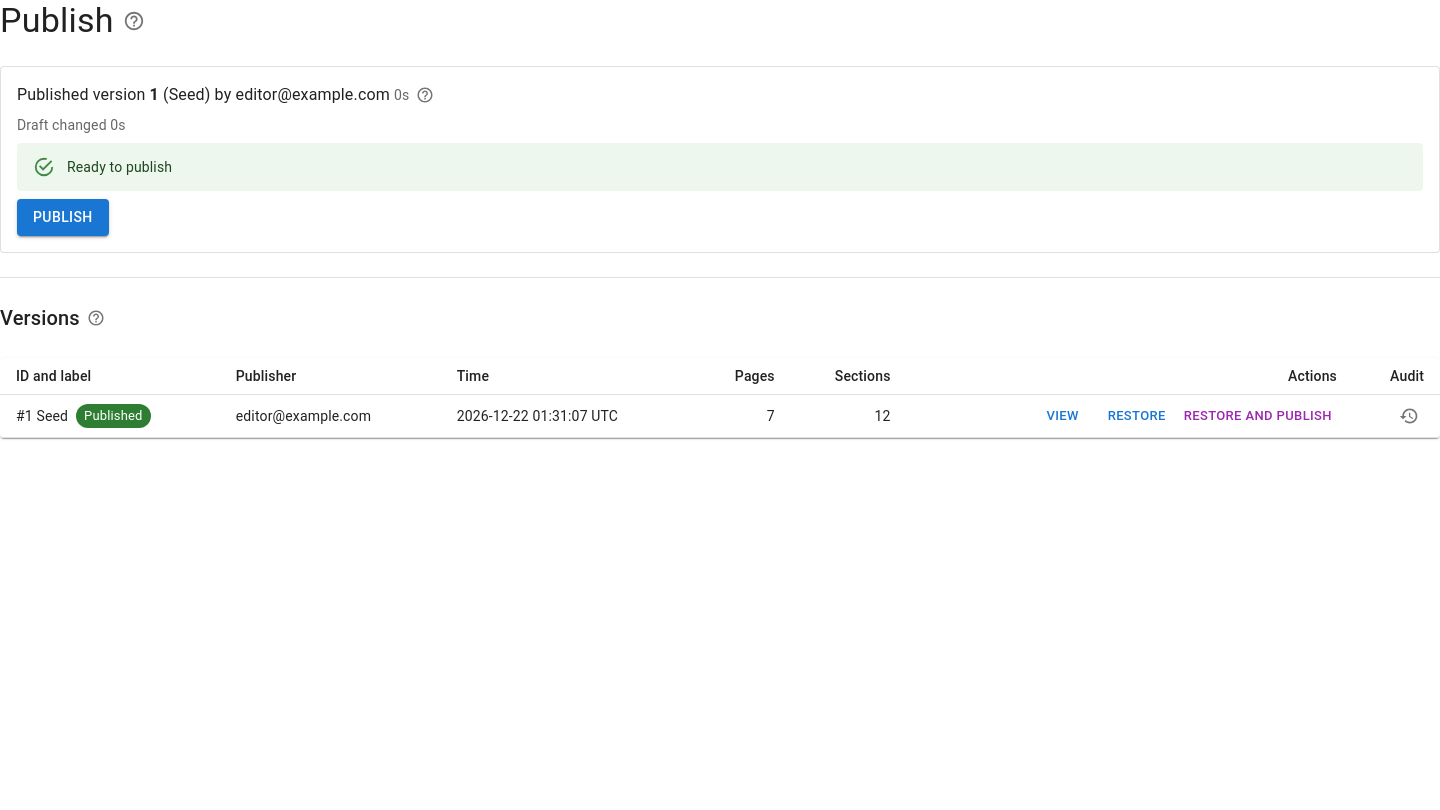
Test: Publish: publish action › refreshes the problem list on 422 content_invalid
Step 1. Click the button with test id "publish-button" → [63, 217], box [17,199,109,236]
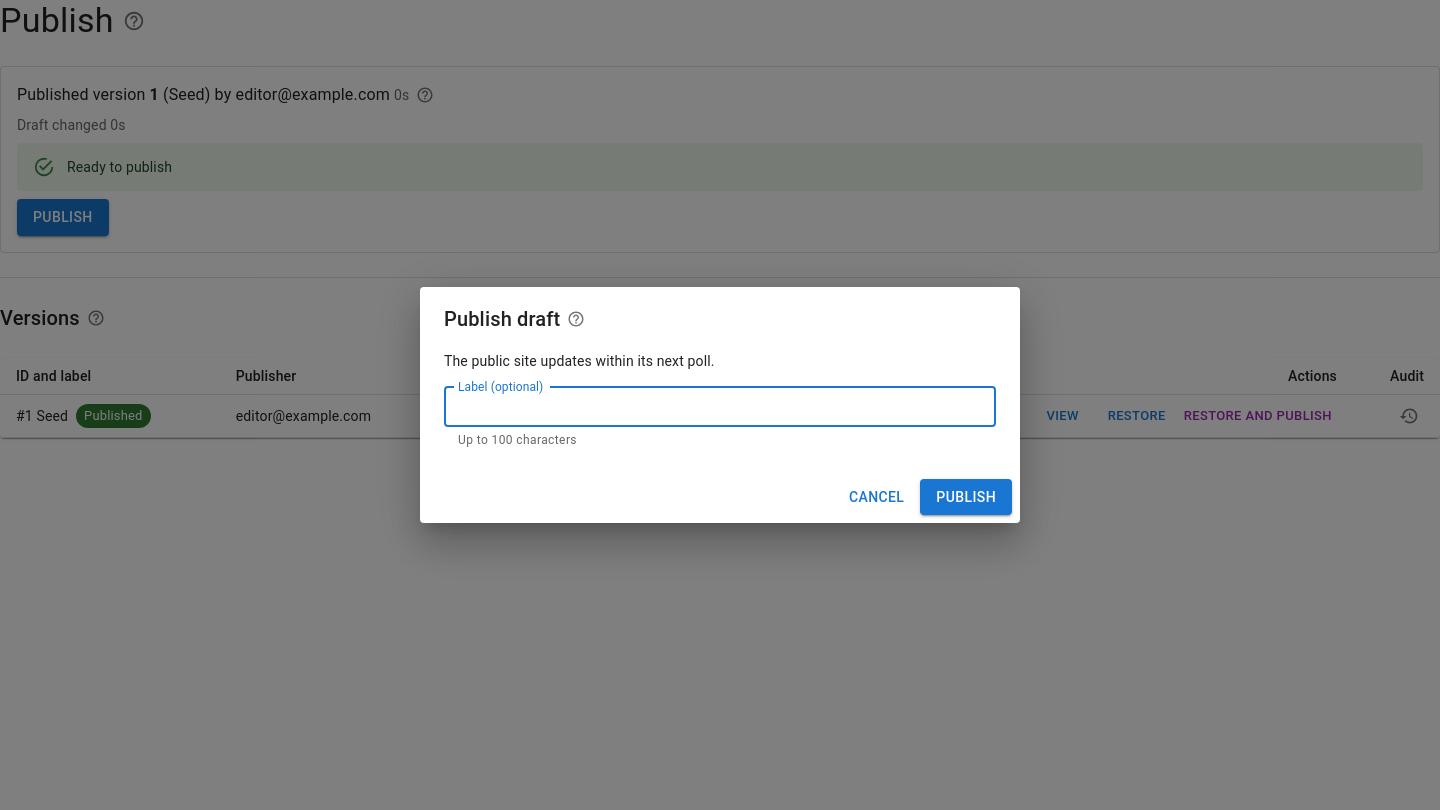
Step 2. Click the button "Publish" → [966, 497], box [920,479,1012,515]
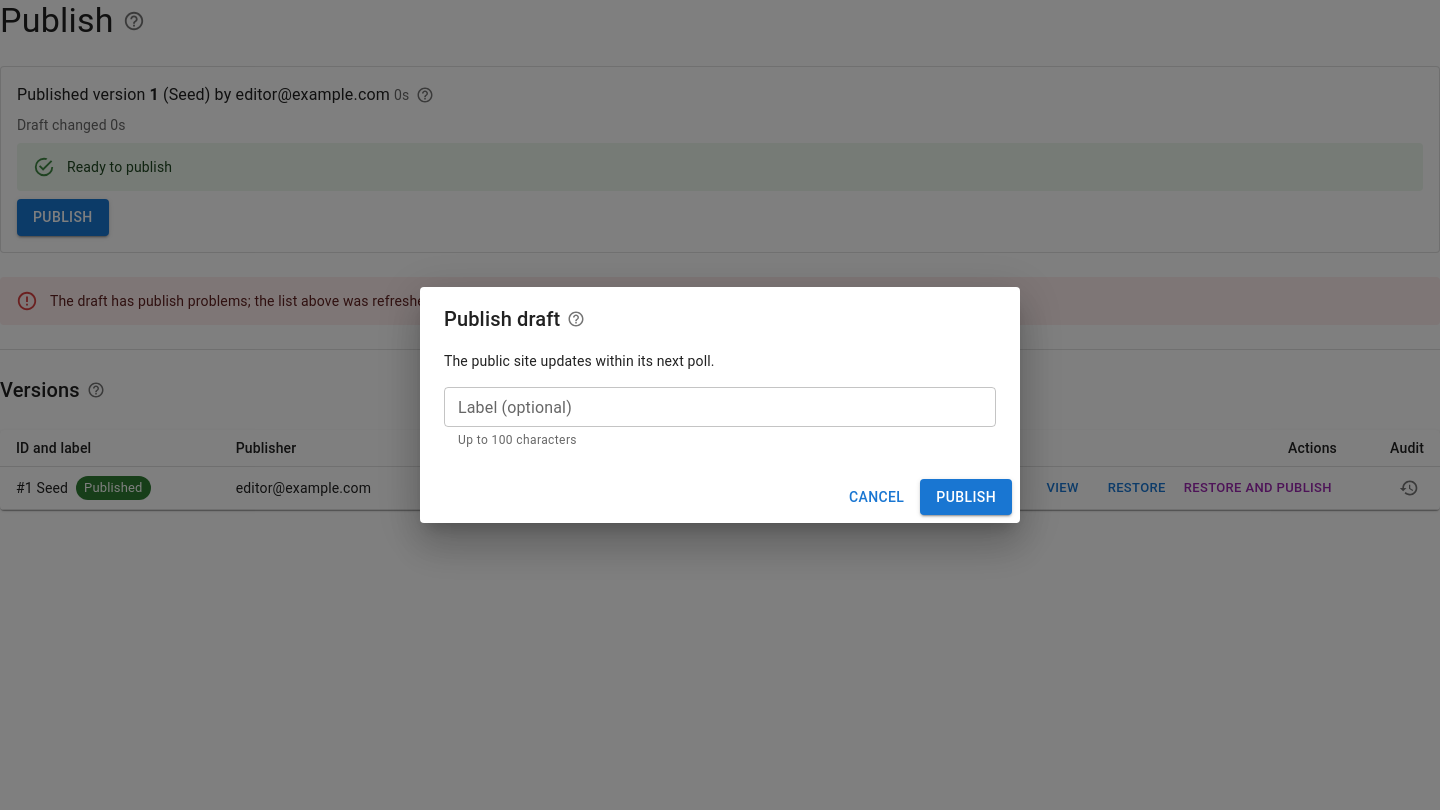
Now the message "The draft has publish problems; the list above was refreshed." is shown, box [0,276,1439,324]
